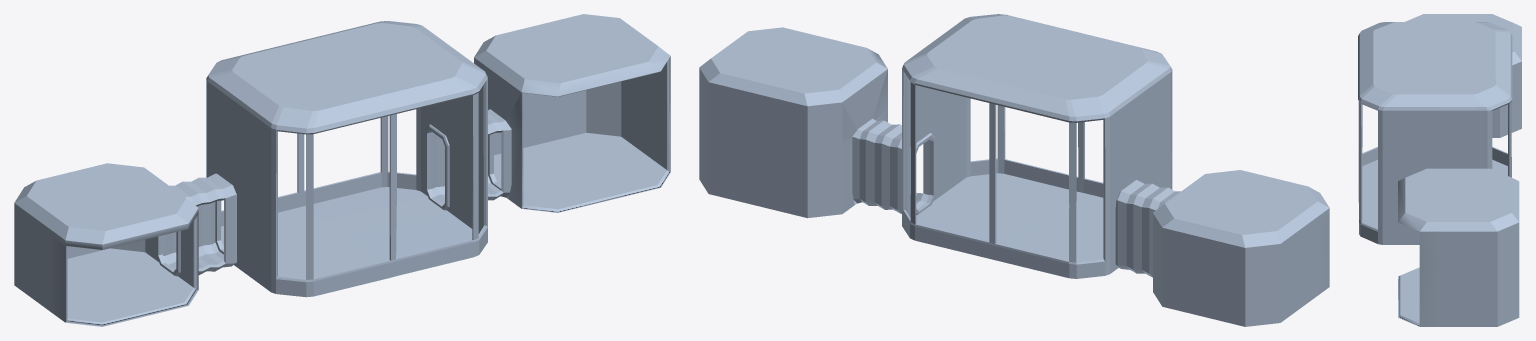
The model's file is SpaceBuilding.fbx.
3 renders of one model, left to right at view 1: azimuth 30°, elevation 25°; view 2: azimuth 150°, elevation 25°; view 3: azimuth 270°, elevation 25°, orthographic. The views are drawn at different scales.
Visible parts, largest first — view 1: SpaceBuilding2; view 2: SpaceBuilding2; view 3: SpaceBuilding2.
Part boxes in pixels (bbox=[...]): SpaceBuilding2: bbox=[14, 14, 670, 326]; SpaceBuilding2: bbox=[699, 14, 1329, 326]; SpaceBuilding2: bbox=[1358, 14, 1521, 326].
Size of the model in its own units: 1155 by 324 by 330.
